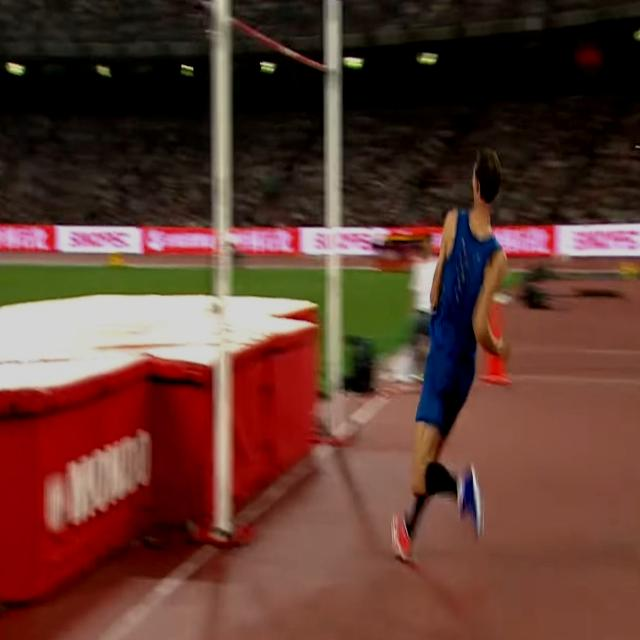run: (392, 147, 510, 565)
